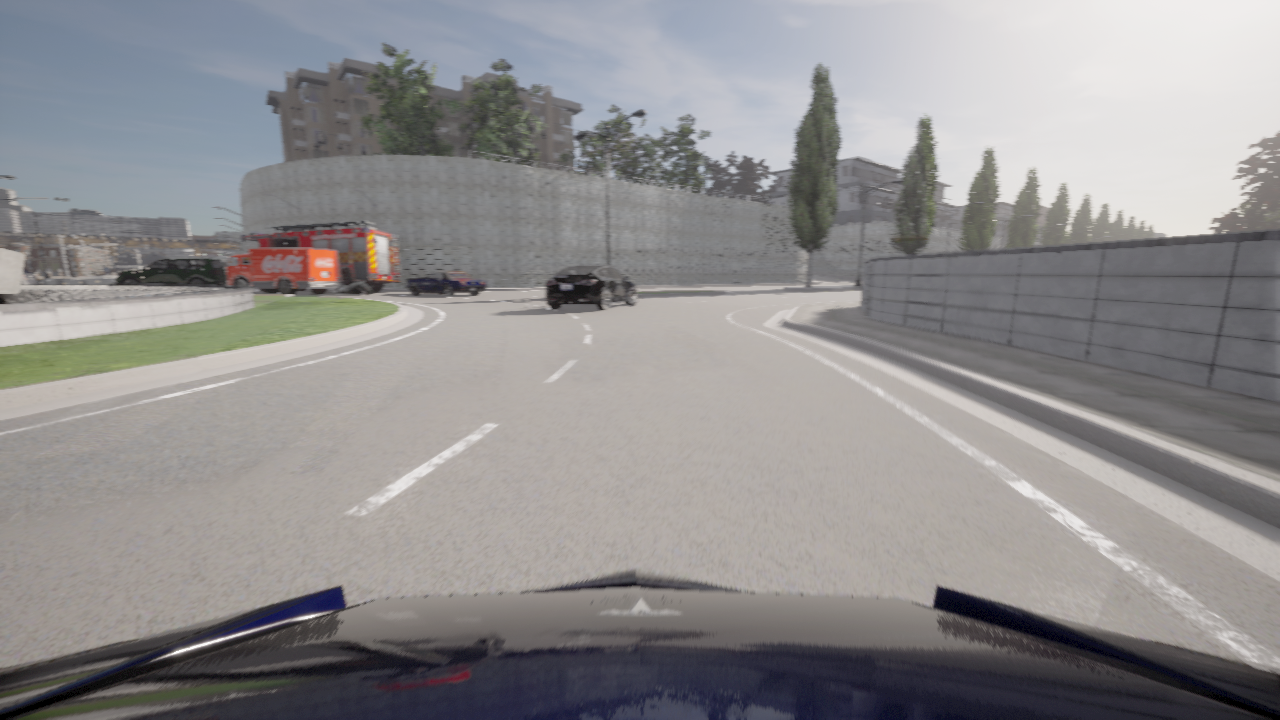cyclist: (0, 569, 1279, 719), (240, 220, 400, 292), (221, 248, 343, 294), (546, 265, 637, 310), (114, 257, 227, 285), (407, 271, 487, 295), (335, 282, 373, 294), (21, 267, 41, 283)
